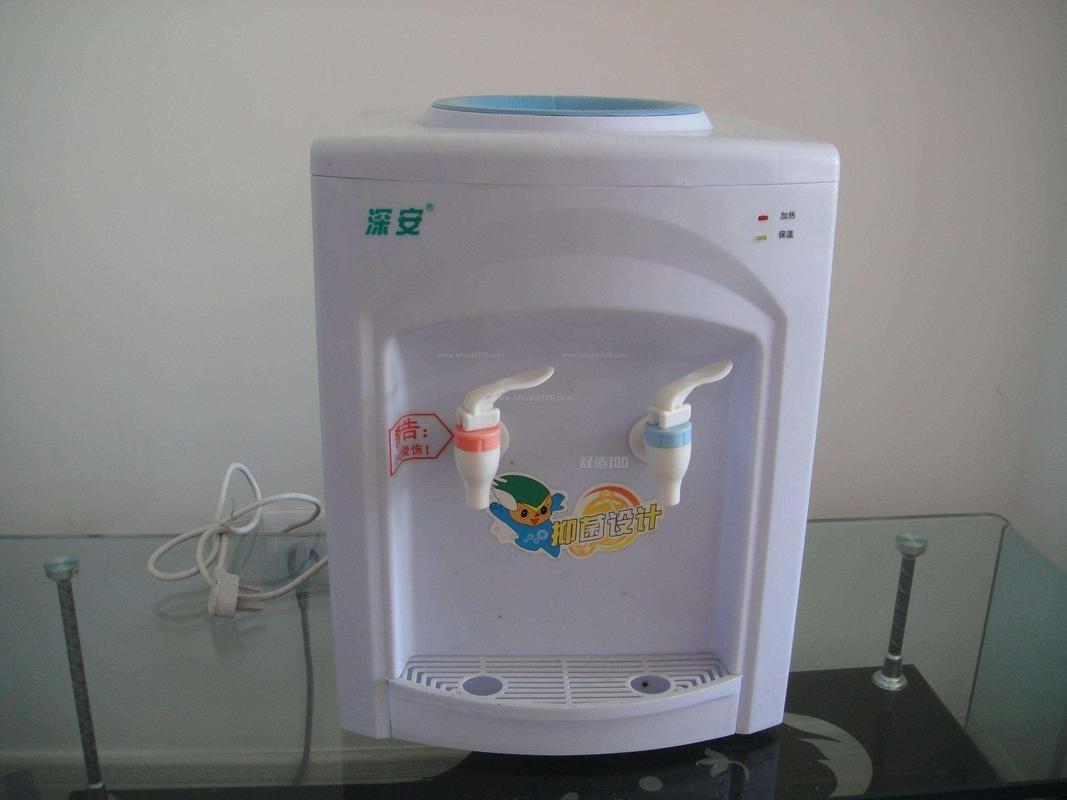Dispenser: (307, 93, 841, 755)
